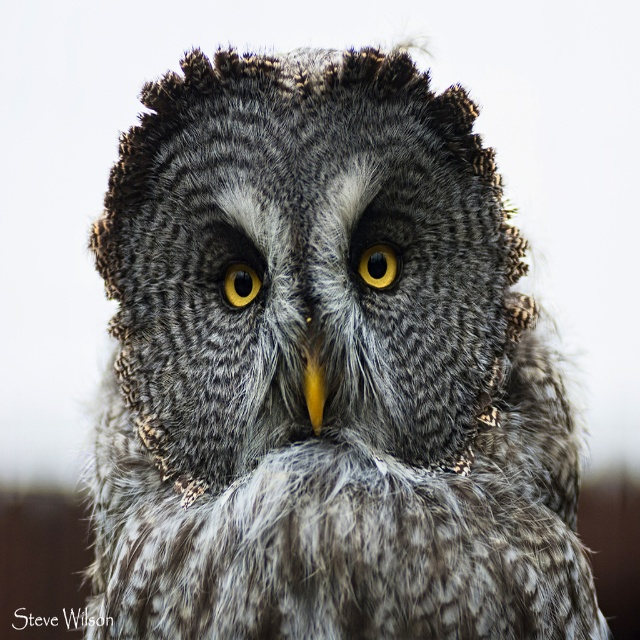Owl: (77, 45, 610, 639)
